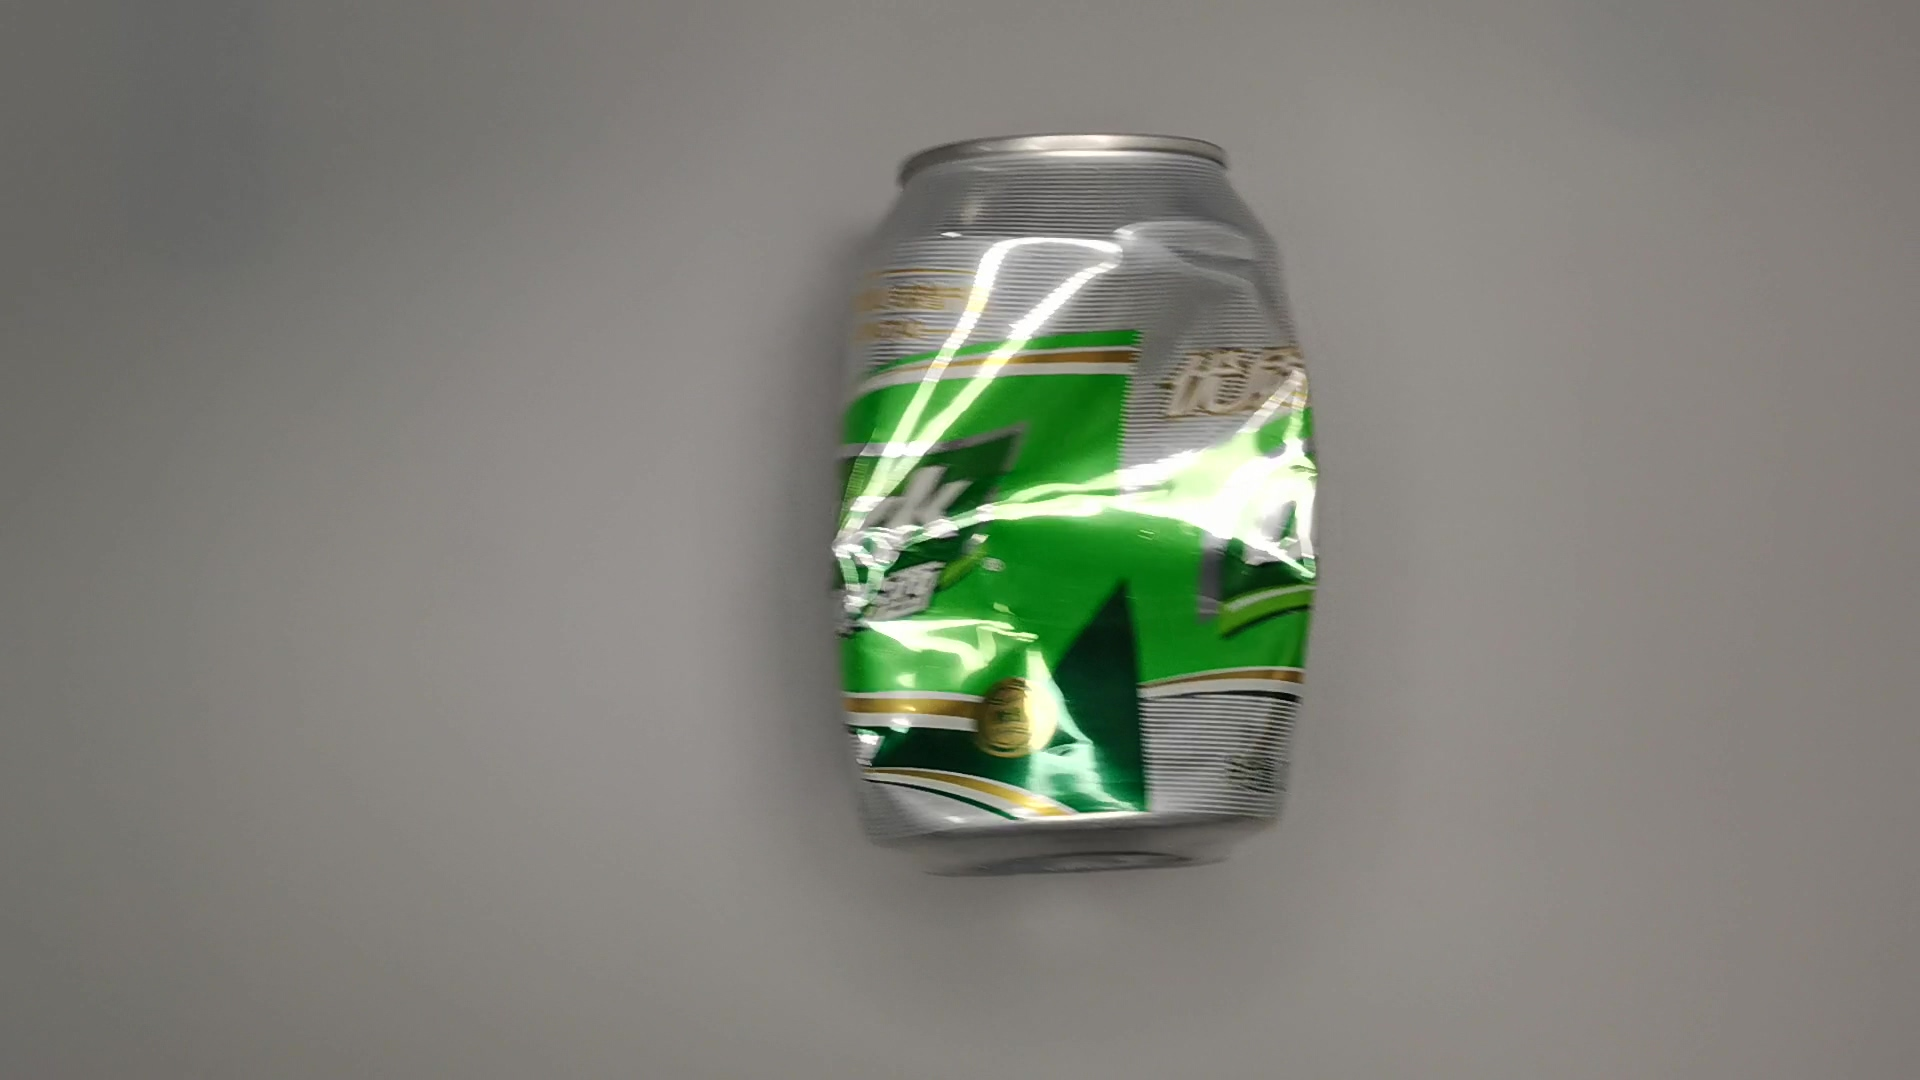can: (823, 115, 1333, 876)
